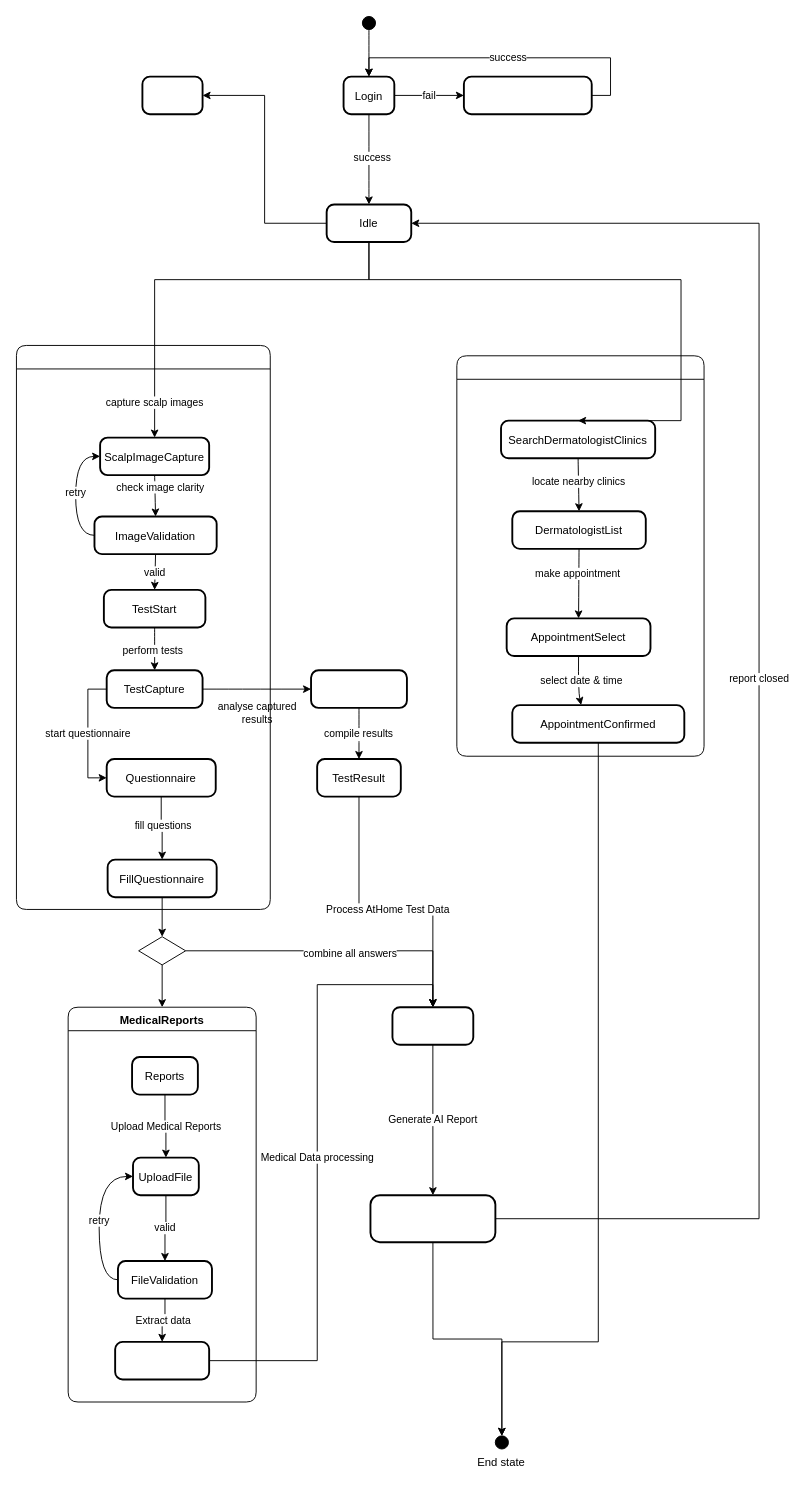
Image size: 806x1494. Some labels were removed from this diagram. Each missing label, with the centre of its shape:
AI Diagnosis Report: (432,1218)
AI Processing: (432,1025)
Alopecia Detection: (143,627)
Create New Account: (527,95)
DermatologistClinic: (580,555)
Logout: (172,95)
RecordedData: (162,1360)
TestAnalysis: (358,688)
